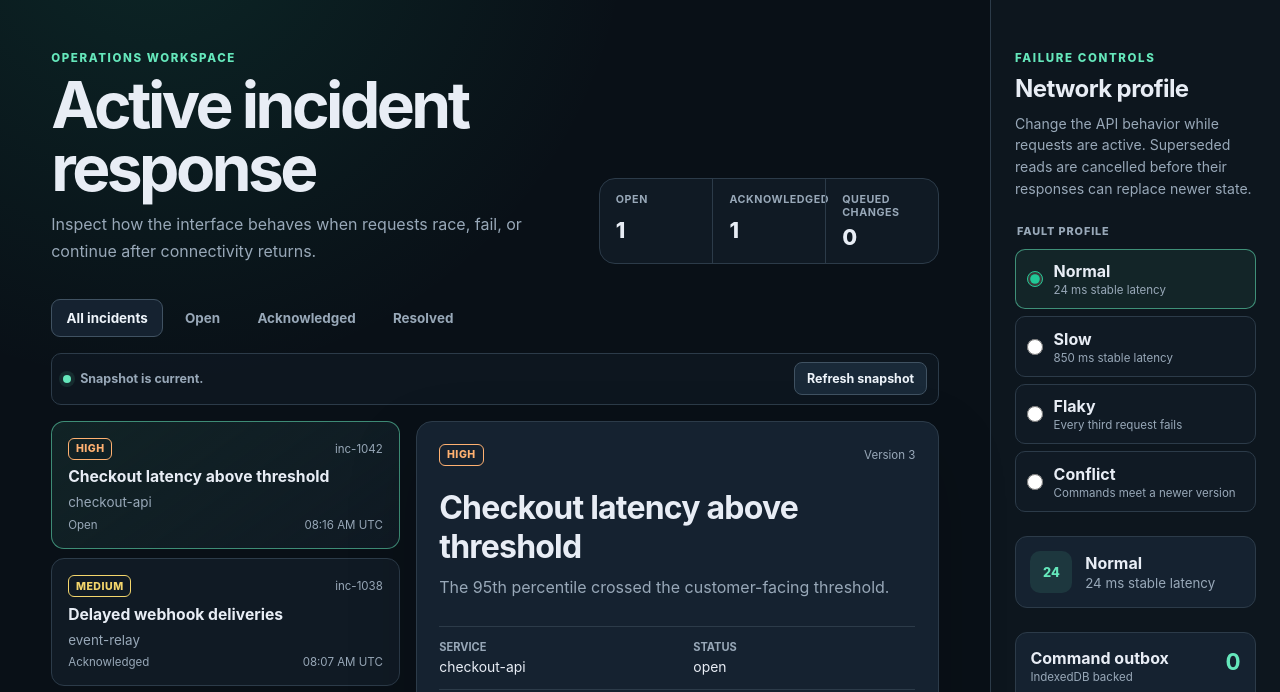
Test: IncidentConsole › sends profile changes through a profile-specific query key
This screenshot has width=1280, height=692.
Check: the button "Checkout latency above threshold" is shown, box [51, 420, 400, 548]
Click the radio button labelled "Slow 850 ms stable latency".
click(1035, 347)  # box [1027, 339, 1043, 355]
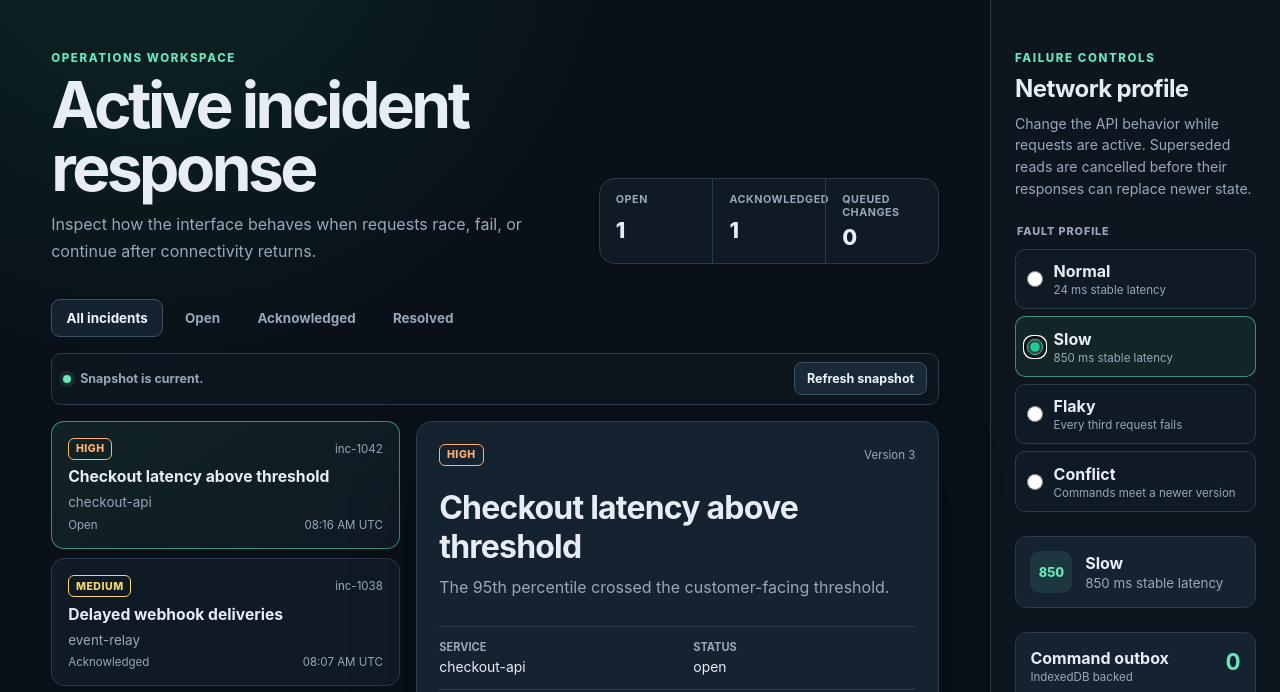
Check: the element named "Current network profile" shows "850 ms stable latency", box [1085, 575, 1223, 591]
